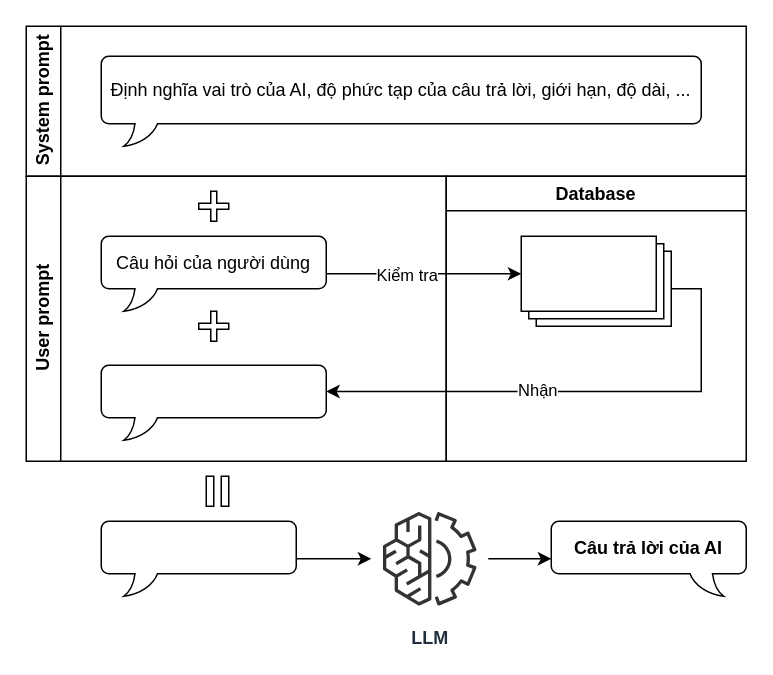
This 773x675 diagram has some shape labels left out. Here are the shapes that lost their labels. From the top down, the box of each, then its label:
(520, 235, 671, 326): Kho kiến thức
(100, 364, 326, 440): Kiến thức liên quan
(100, 520, 296, 596): Prompt hoàn chỉnh
